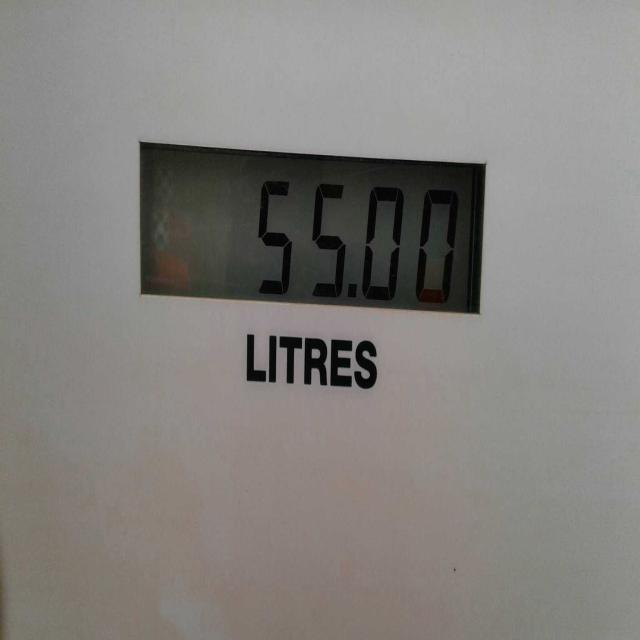.: (347, 262, 361, 306)
0: (414, 172, 464, 311), (359, 182, 411, 309)
5: (250, 171, 304, 304), (305, 171, 347, 300)
